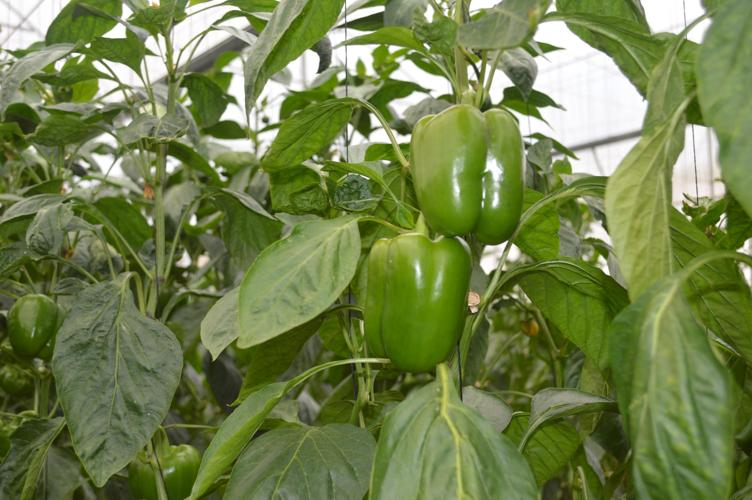BellPepper: (346, 230, 464, 390), (409, 108, 530, 237), (131, 438, 205, 500), (9, 297, 54, 367)
